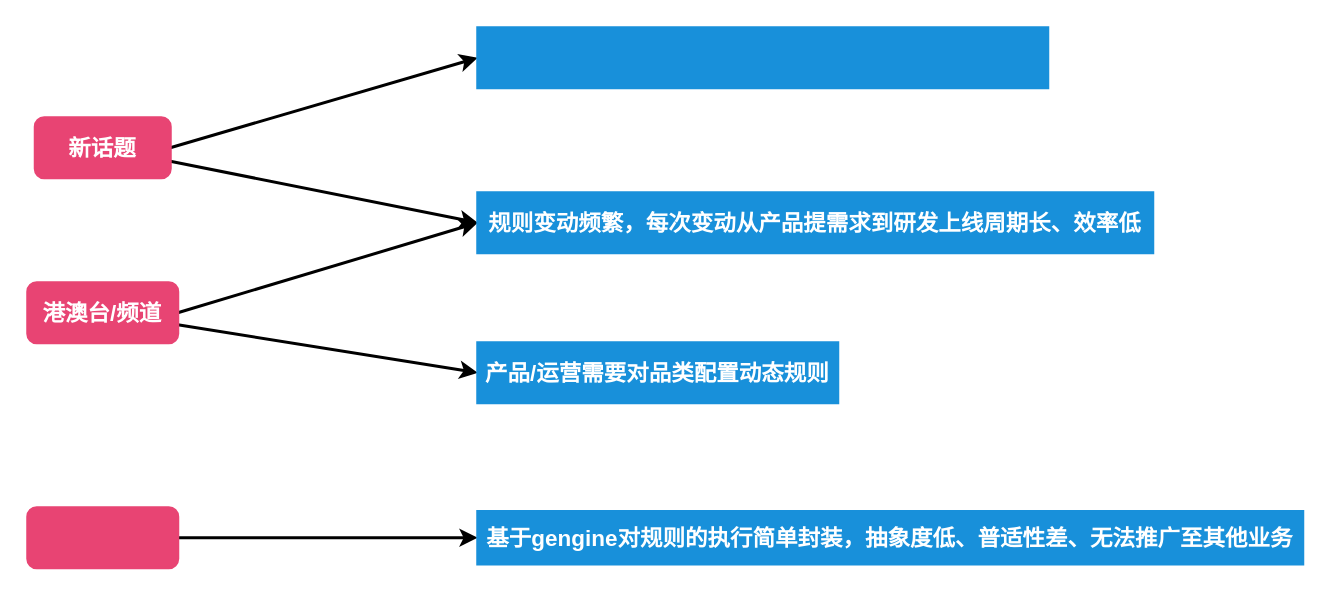
Image size: 1329x594. Some labels were removed from this diagram. Here are the shapes that lost their labels. From the top down, the centre of each, then its label:
pixel 762 57: 依赖的接口繁多，规则编排复杂，代码冗长且难以维护
pixel 102 537: 校园
